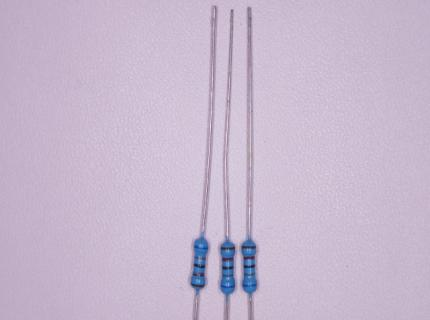Black band: (193, 263, 205, 268), (222, 266, 234, 270), (243, 265, 255, 269)
Blue band: (194, 246, 208, 250), (220, 285, 235, 288), (243, 284, 257, 287)
Brown band: (190, 283, 205, 288), (220, 247, 235, 251), (241, 246, 256, 249)
Grey band: (243, 273, 255, 276), (222, 274, 234, 277), (194, 257, 206, 260)
Red band: (192, 272, 205, 277), (222, 257, 234, 262), (243, 256, 255, 260)
